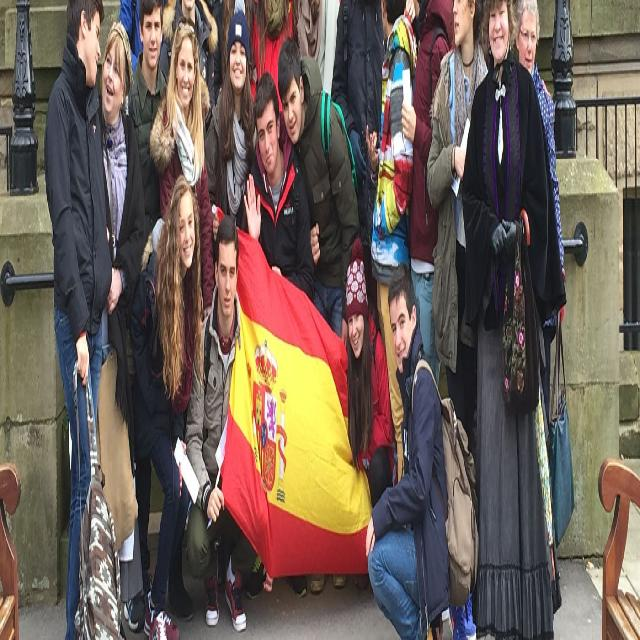body: (460, 0, 569, 639), (277, 31, 361, 595), (41, 0, 112, 639), (363, 259, 482, 639), (426, 0, 490, 640), (148, 17, 215, 620), (128, 170, 205, 637), (514, 0, 576, 550), (94, 19, 145, 635), (330, 0, 420, 337), (184, 211, 248, 635), (364, 0, 418, 485), (401, 4, 455, 384), (157, 14, 216, 323), (243, 69, 315, 304), (344, 234, 398, 510), (203, 0, 258, 262), (208, 0, 253, 234), (128, 0, 168, 241), (250, 0, 297, 126), (291, 0, 340, 103), (118, 0, 145, 74), (205, 0, 222, 21), (337, 0, 342, 8)
